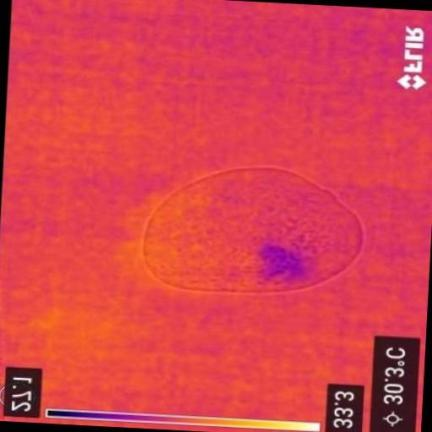mango: (144, 168, 362, 293)
